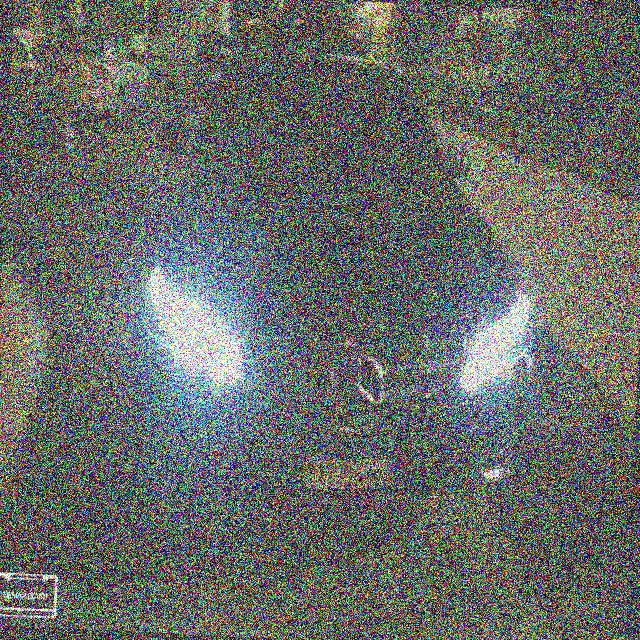License Plate: (298, 431, 400, 498)
